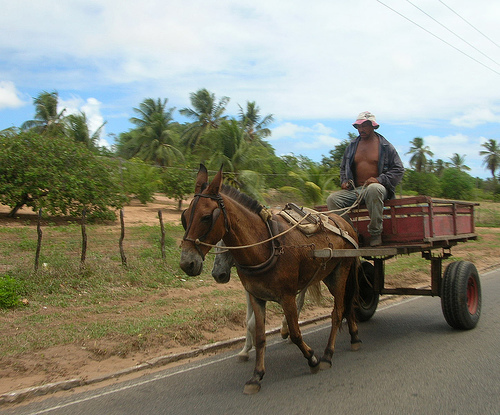horse: (179, 165, 365, 395)
